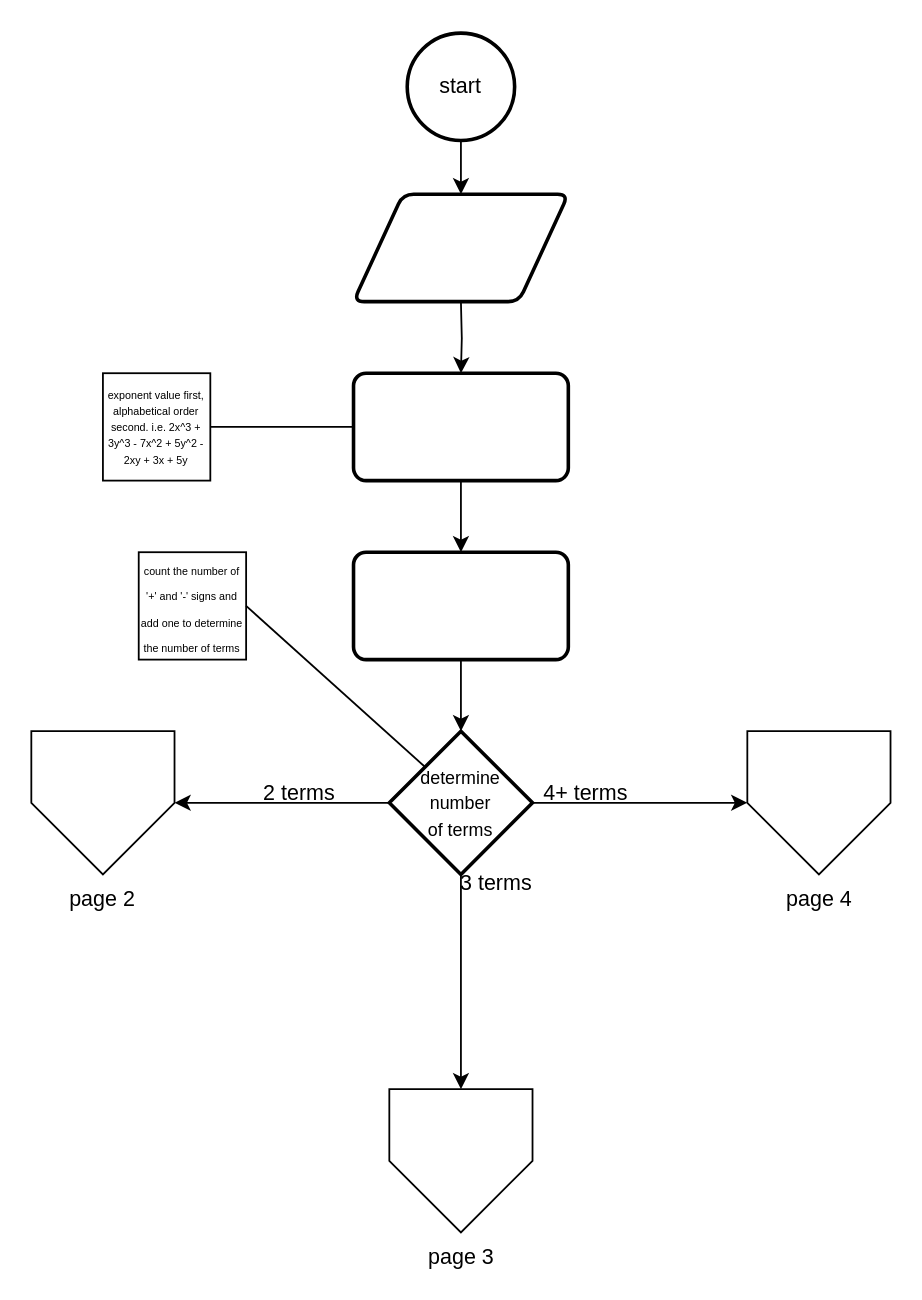
Image size: 922x1300. Some labels were removed from this diagram. Here are the shapes that lost their labels. From the top down, the centre of each, then its label:
At (x=460, y=247): "receive quadratic equation from GUI".
At (x=460, y=426): "order all terms correctly".
At (x=460, y=605): "add 'like' terms".
